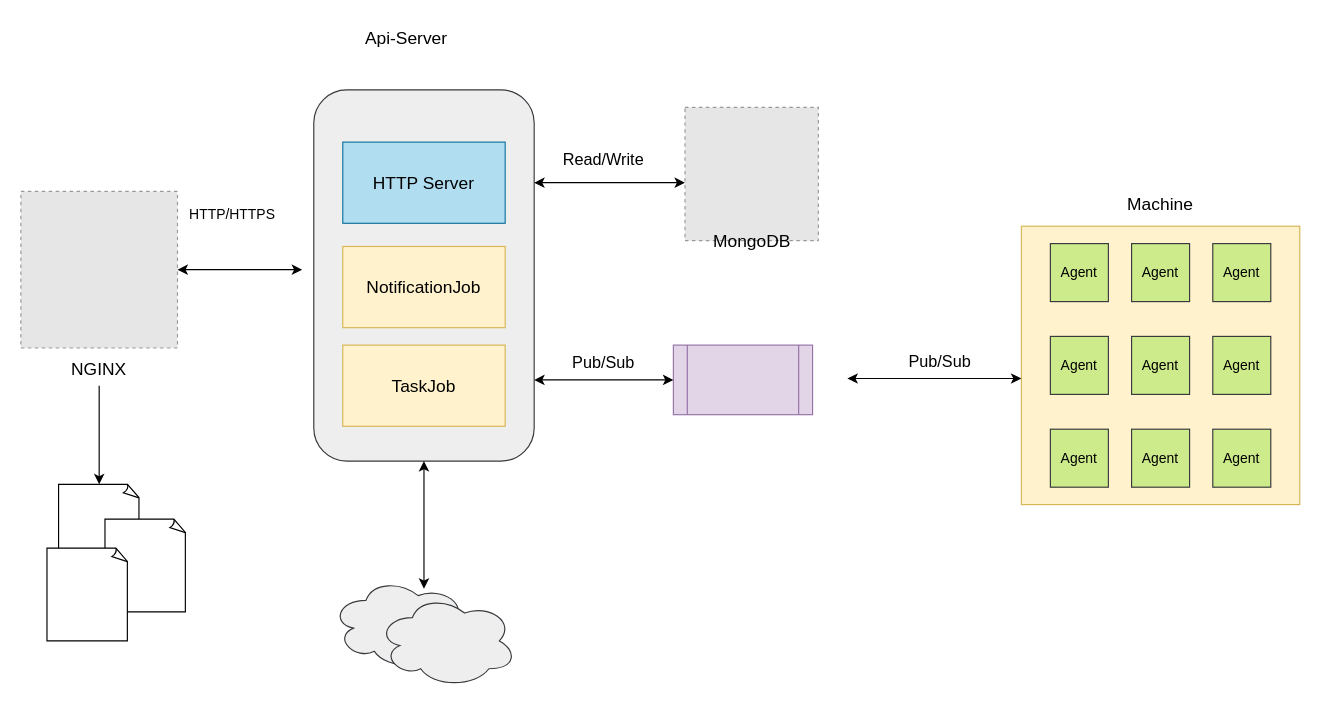
Image size: 1320x708. Some labels were removed from this diagram. Grey dashed boxes stand in for pictures. Here are the shapes that lost their labels. From the top down, the box of each, then its label:
(672, 344, 813, 415): Rabbit MQ
(376, 593, 517, 687): IM
